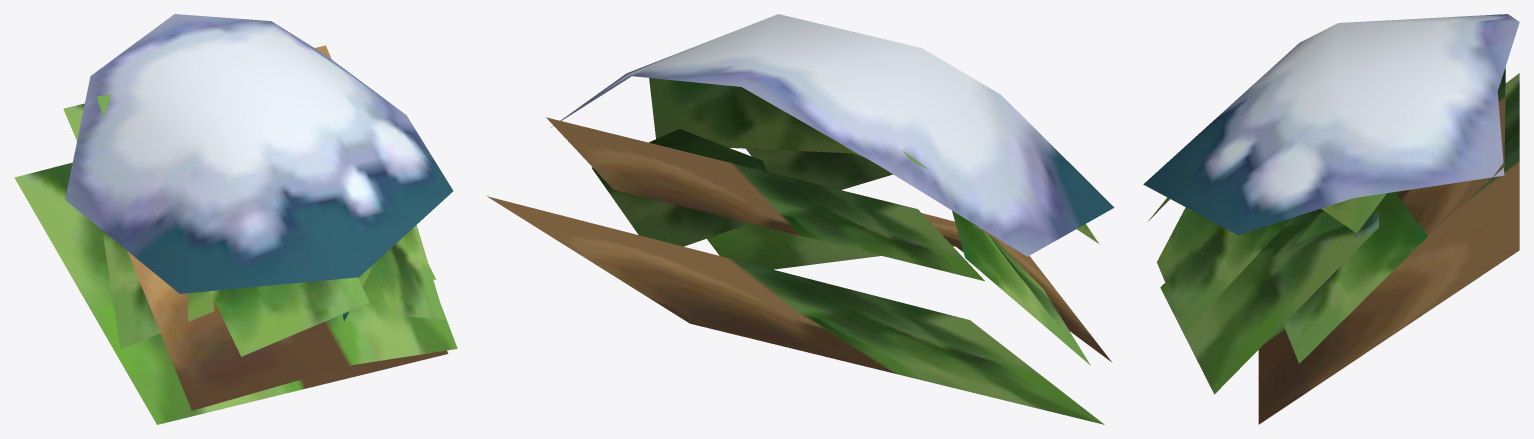
Rendered from fg_bushB_2_wt.dae.
3 renders of one model, left to right at view 1: azimuth 30°, elevation 25°; view 2: azimuth 150°, elevation 25°; view 3: azimuth 270°, elevation 25°, orthographic. The views are drawn at different scales.
Parts seen in each view (by area): view 1: fg_bushB_2_wt; view 2: fg_bushB_2_wt; view 3: fg_bushB_2_wt.
Boxes of the visible parts, left/top/right/bottom form: fg_bushB_2_wt: left=14, top=14, right=457, bottom=424; fg_bushB_2_wt: left=487, top=14, right=1114, bottom=424; fg_bushB_2_wt: left=1143, top=14, right=1519, bottom=424.
Bounding box in the file's own units: 43.24 × 35.41 × 37.79.
1 material, 1 textured.
